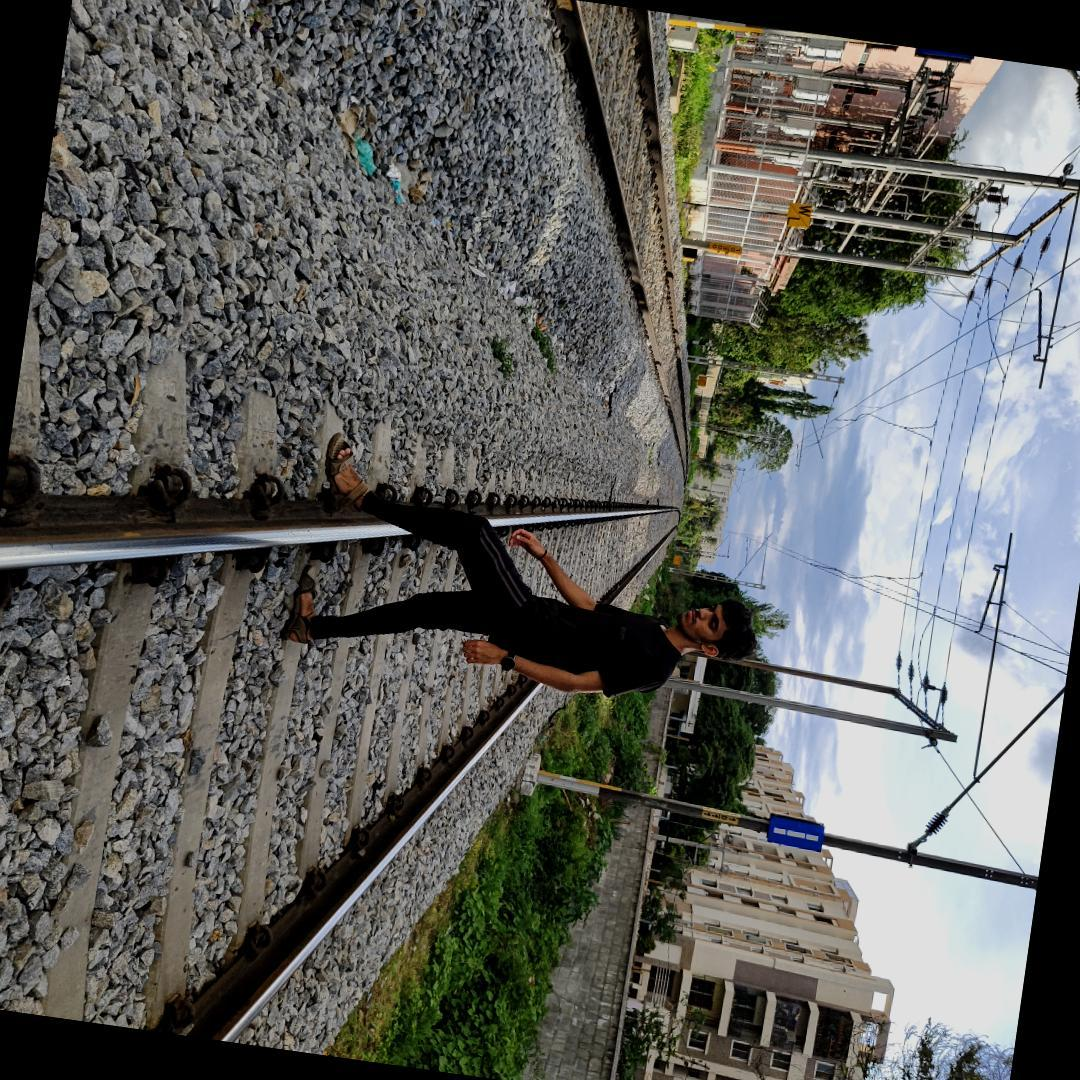standing: (269, 435, 771, 712)
